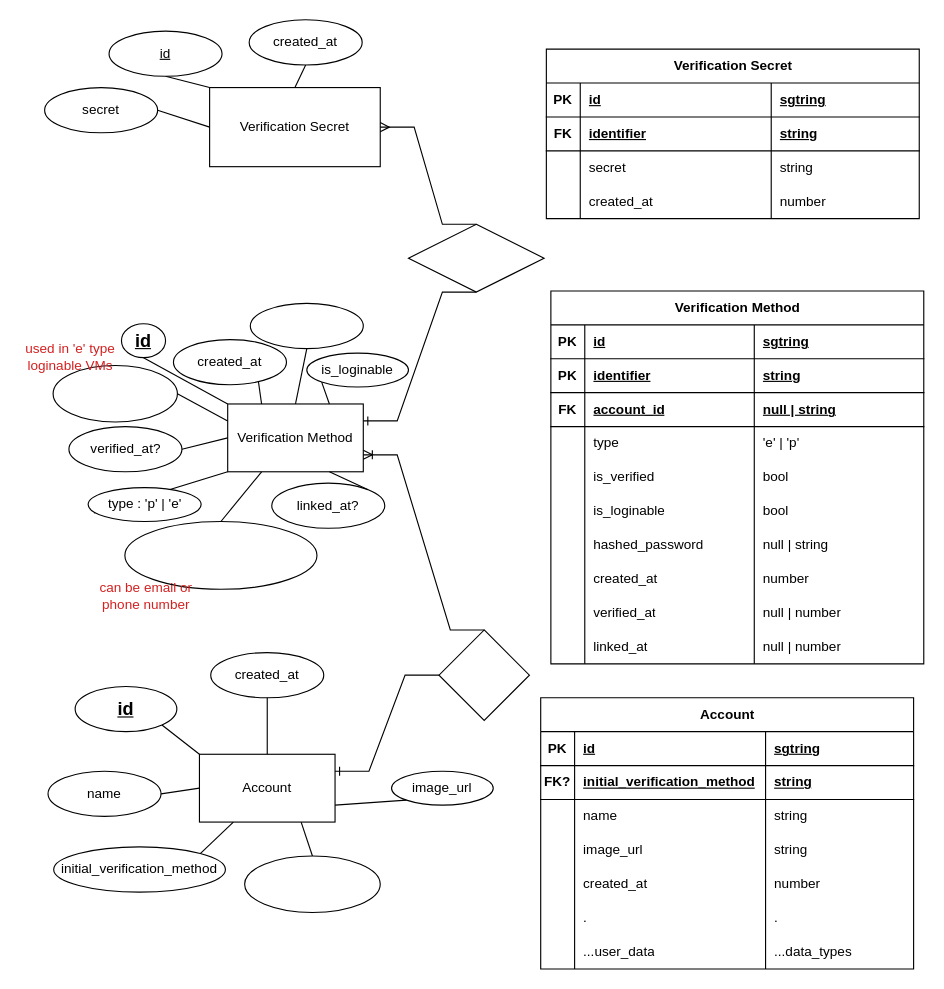
Some shapes in this 944 by 989 pixel diagram are drawn without their labels. Here are the shapes that lost their labels. From the top down, the centre of each, then its label:
[475,257]: has
[306,325]: is_verifyed
[114,393]: hashed password?
[220,554]: identifier : email | phone
[483,674]: linked to
[312,883]: ...account_data
